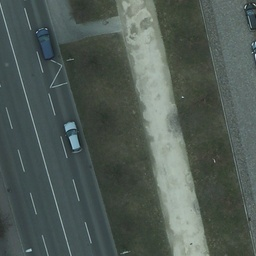car: (35, 26, 57, 59), (63, 120, 82, 152)
